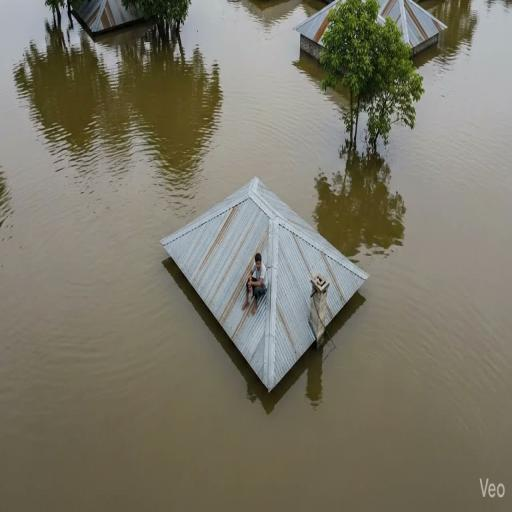human: (236, 247, 272, 316)
